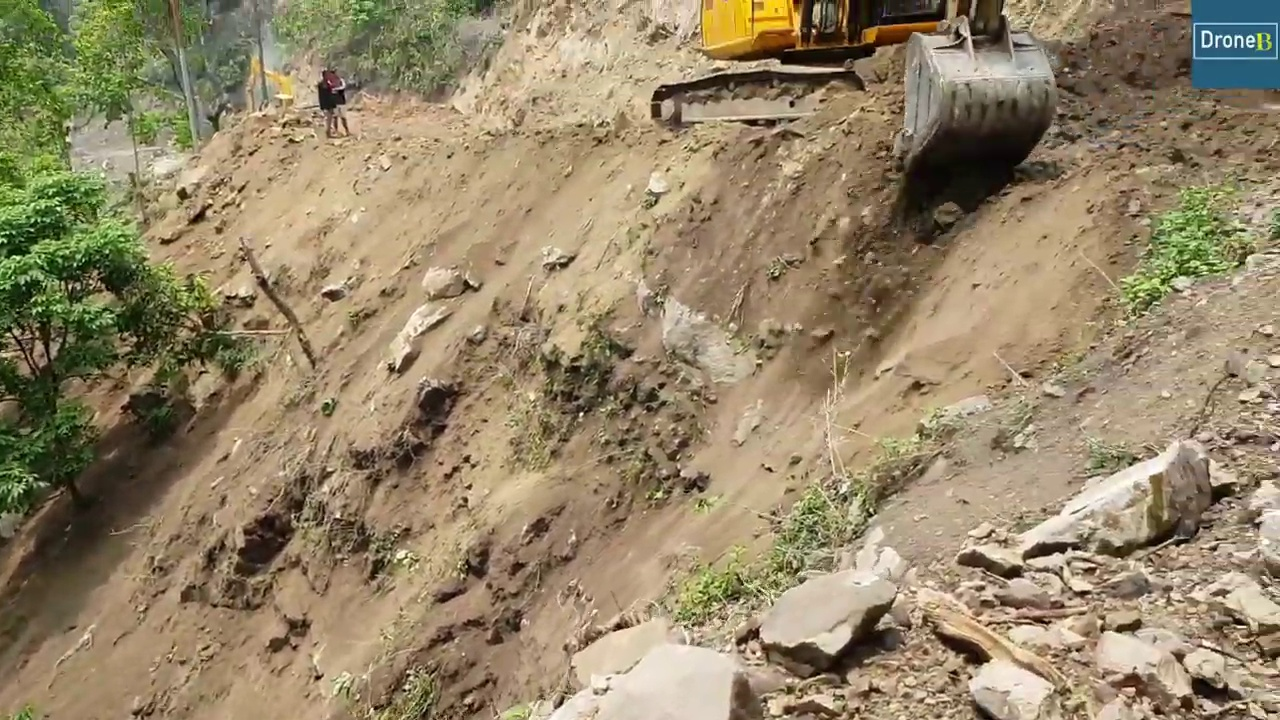excavator: (650, 1, 1057, 199), (247, 53, 294, 124)
person: (319, 67, 347, 134)
